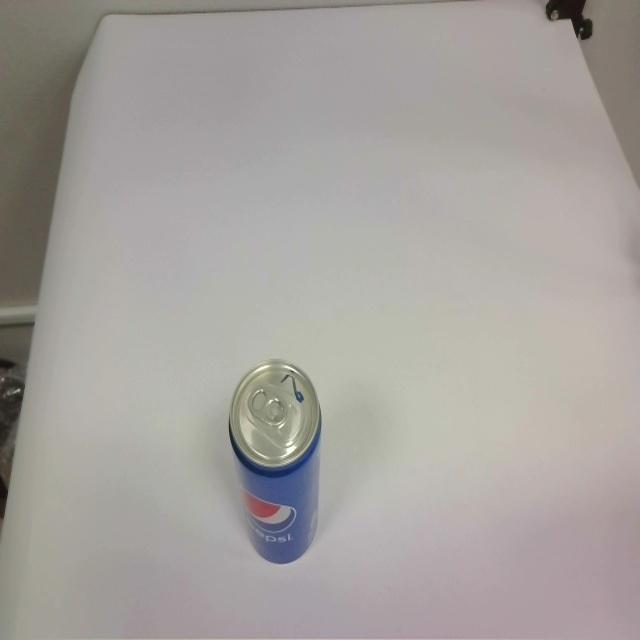debris: (227, 357, 323, 565)
